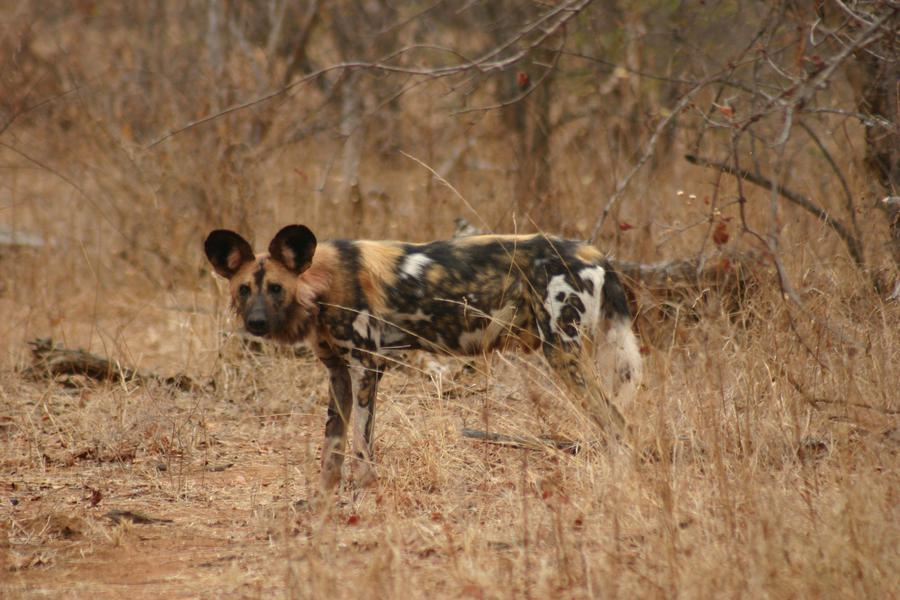wilddog: (209, 226, 605, 374)
